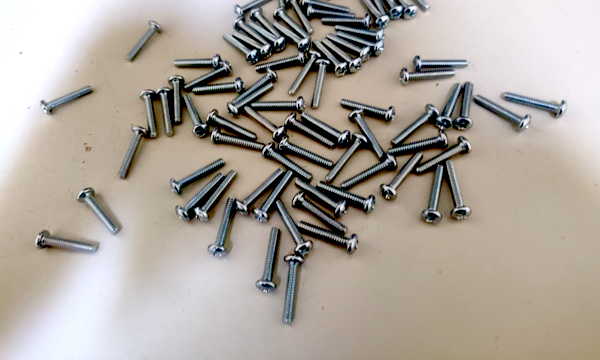longscrew: (293, 189, 350, 238), (474, 94, 533, 133), (196, 170, 240, 221), (295, 219, 359, 254), (178, 173, 223, 222), (318, 176, 377, 213), (382, 152, 427, 200), (295, 177, 348, 215), (79, 187, 120, 236), (40, 77, 90, 117), (418, 137, 471, 174), (396, 100, 438, 146), (278, 132, 333, 167), (264, 144, 319, 179), (238, 170, 281, 214), (257, 171, 294, 222), (259, 228, 288, 293), (117, 128, 153, 180), (172, 159, 222, 196), (501, 92, 569, 119), (224, 84, 274, 120), (330, 135, 369, 181), (279, 201, 310, 256), (423, 166, 451, 226), (206, 109, 258, 141), (345, 156, 396, 188), (232, 68, 277, 103), (351, 111, 385, 157), (212, 198, 238, 257), (303, 113, 348, 147), (286, 113, 331, 147), (183, 60, 230, 92), (281, 254, 300, 330), (323, 36, 361, 74), (33, 234, 106, 253), (127, 21, 160, 62), (291, 53, 322, 95), (338, 99, 396, 121), (436, 82, 463, 129), (388, 134, 448, 155), (331, 29, 383, 53), (246, 96, 305, 117), (324, 37, 371, 63), (210, 131, 266, 151), (449, 161, 468, 219), (234, 20, 274, 47), (253, 53, 304, 74), (455, 83, 477, 131), (315, 40, 347, 73), (248, 107, 282, 138), (221, 34, 258, 62), (312, 56, 330, 111), (411, 52, 468, 69), (397, 66, 454, 83), (248, 22, 285, 48), (189, 78, 242, 96), (233, 31, 272, 55), (275, 7, 308, 35), (272, 25, 310, 48), (357, 0, 387, 28), (141, 87, 156, 141), (184, 90, 200, 139), (290, 0, 313, 34), (323, 13, 370, 29), (336, 25, 382, 41), (307, 4, 354, 19), (232, 0, 275, 16), (253, 9, 280, 34), (160, 84, 172, 140), (169, 56, 219, 68), (171, 74, 182, 126), (389, 0, 419, 19), (363, 0, 392, 19), (301, 0, 348, 11), (374, 0, 403, 17), (398, 0, 427, 9), (272, 0, 285, 10)
